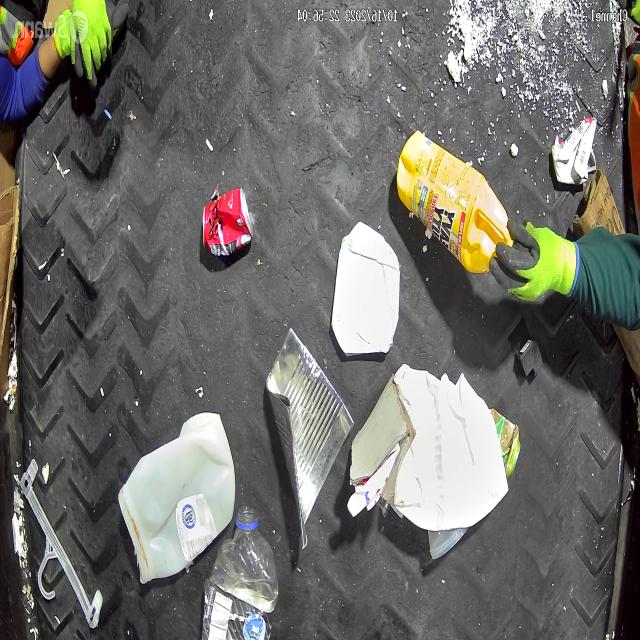can: (262, 323, 355, 553), (202, 185, 253, 256)
milk_jug: (118, 412, 236, 585)
non_white_jug: (397, 130, 511, 272)
plastic_bottle: (202, 506, 278, 640)
